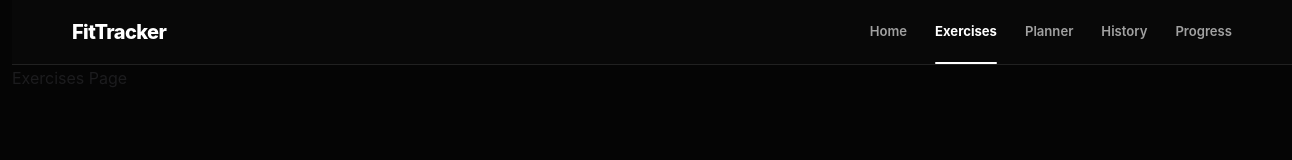
Test: Navigation Integration › navigates to the Home page when Home link is clicked
Click the link "Home": x=888, y=31 870,23 -> 907,39
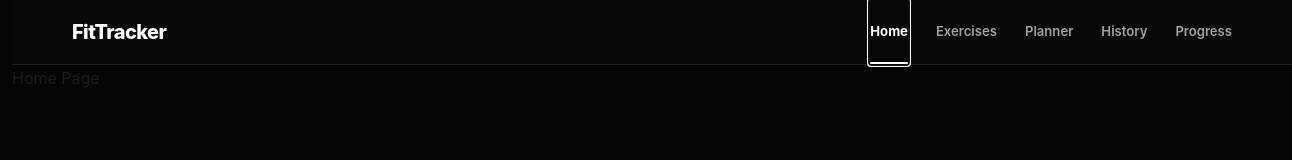
Check: the text "Home Page" is shown, box 12,68 -> 100,88
